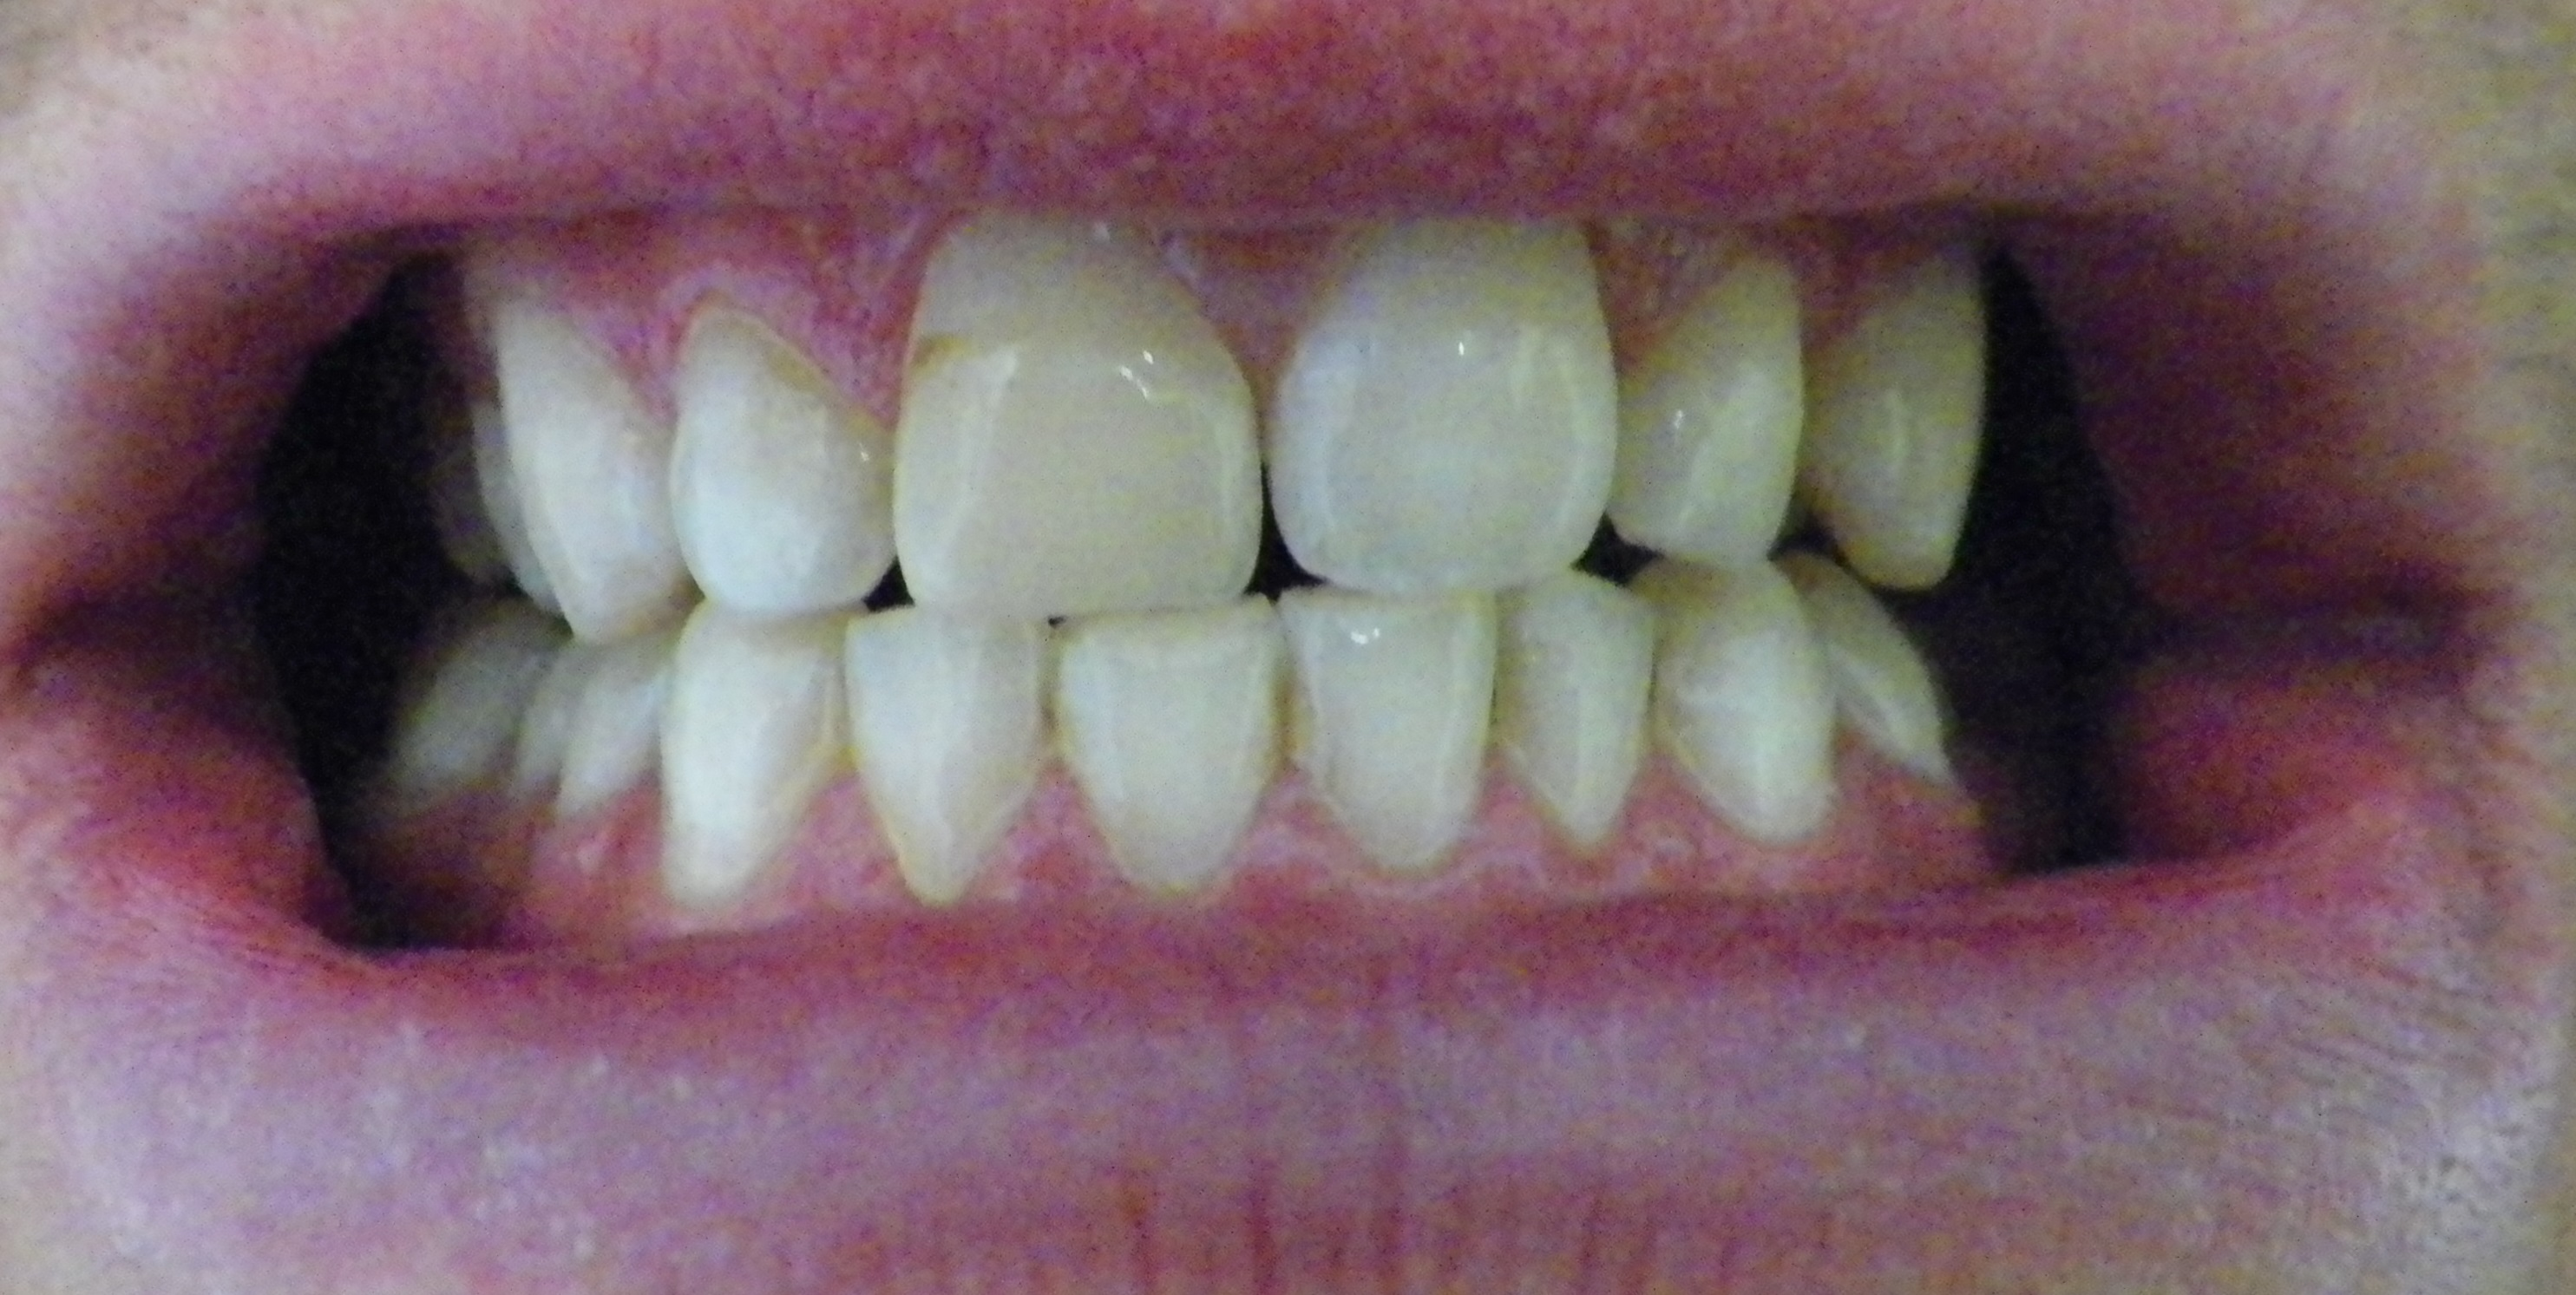boca: (370, 244, 2021, 880)
